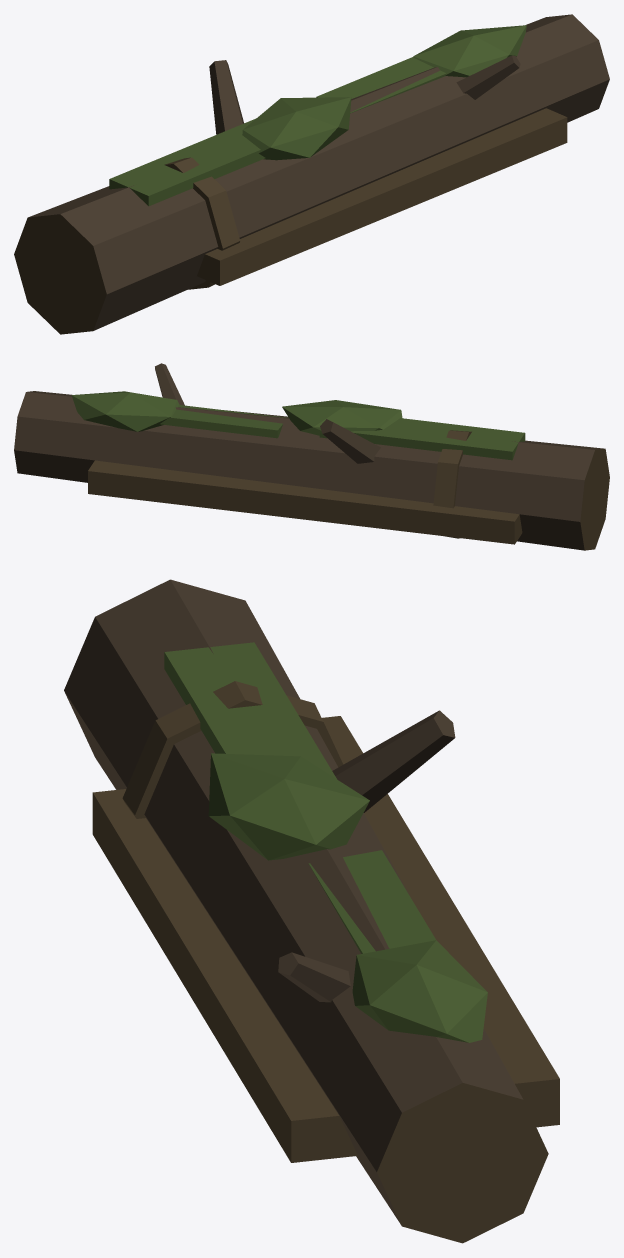
Rendered from swamp_log_mossy.glb.
3 views of the same model, one above another, from view 1: azimuth 30°, elevation 25°; view 2: azimuth 150°, elevation 25°; view 3: azimuth 270°, elevation 25° (orthographic). The views are drawn at different scales.
Parts seen in each view (by area): view 1: swamp_log_mossy; view 2: swamp_log_mossy; view 3: swamp_log_mossy.
Boxes of the visible parts, x1=… form: swamp_log_mossy: x1=14, y1=14, x2=609, y2=334; swamp_log_mossy: x1=14, y1=363, x2=609, y2=550; swamp_log_mossy: x1=64, y1=579, x2=559, y2=1243.
Size of what is drawn, in the model's own units: 2.83 by 0.6899 by 1.18.
1 material, 1 textured.
